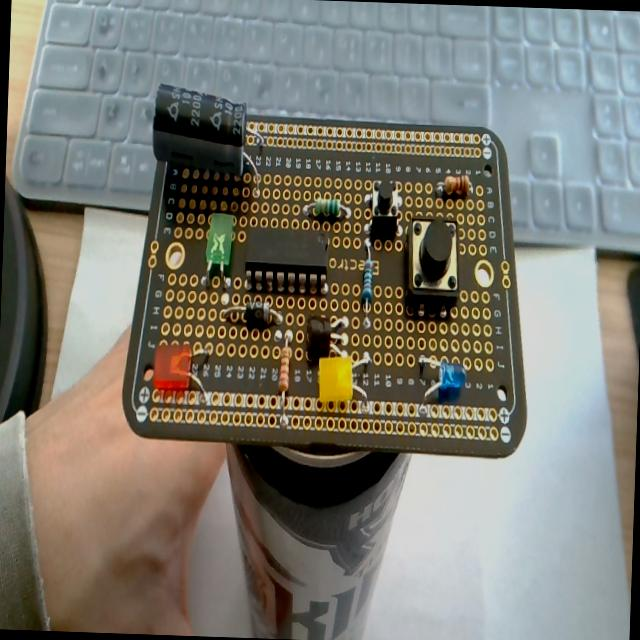Electrolytic capacitor: (150, 82, 268, 188)
IC: (240, 223, 330, 290)
diode: (222, 296, 284, 330), (304, 194, 353, 220)
led: (152, 338, 212, 402), (204, 211, 234, 281), (419, 356, 465, 400), (316, 354, 354, 406)
resistor: (276, 328, 294, 422), (360, 237, 376, 322), (436, 172, 472, 198)
switch: (404, 216, 462, 312), (364, 178, 402, 235)
transistor: (304, 315, 348, 362)
